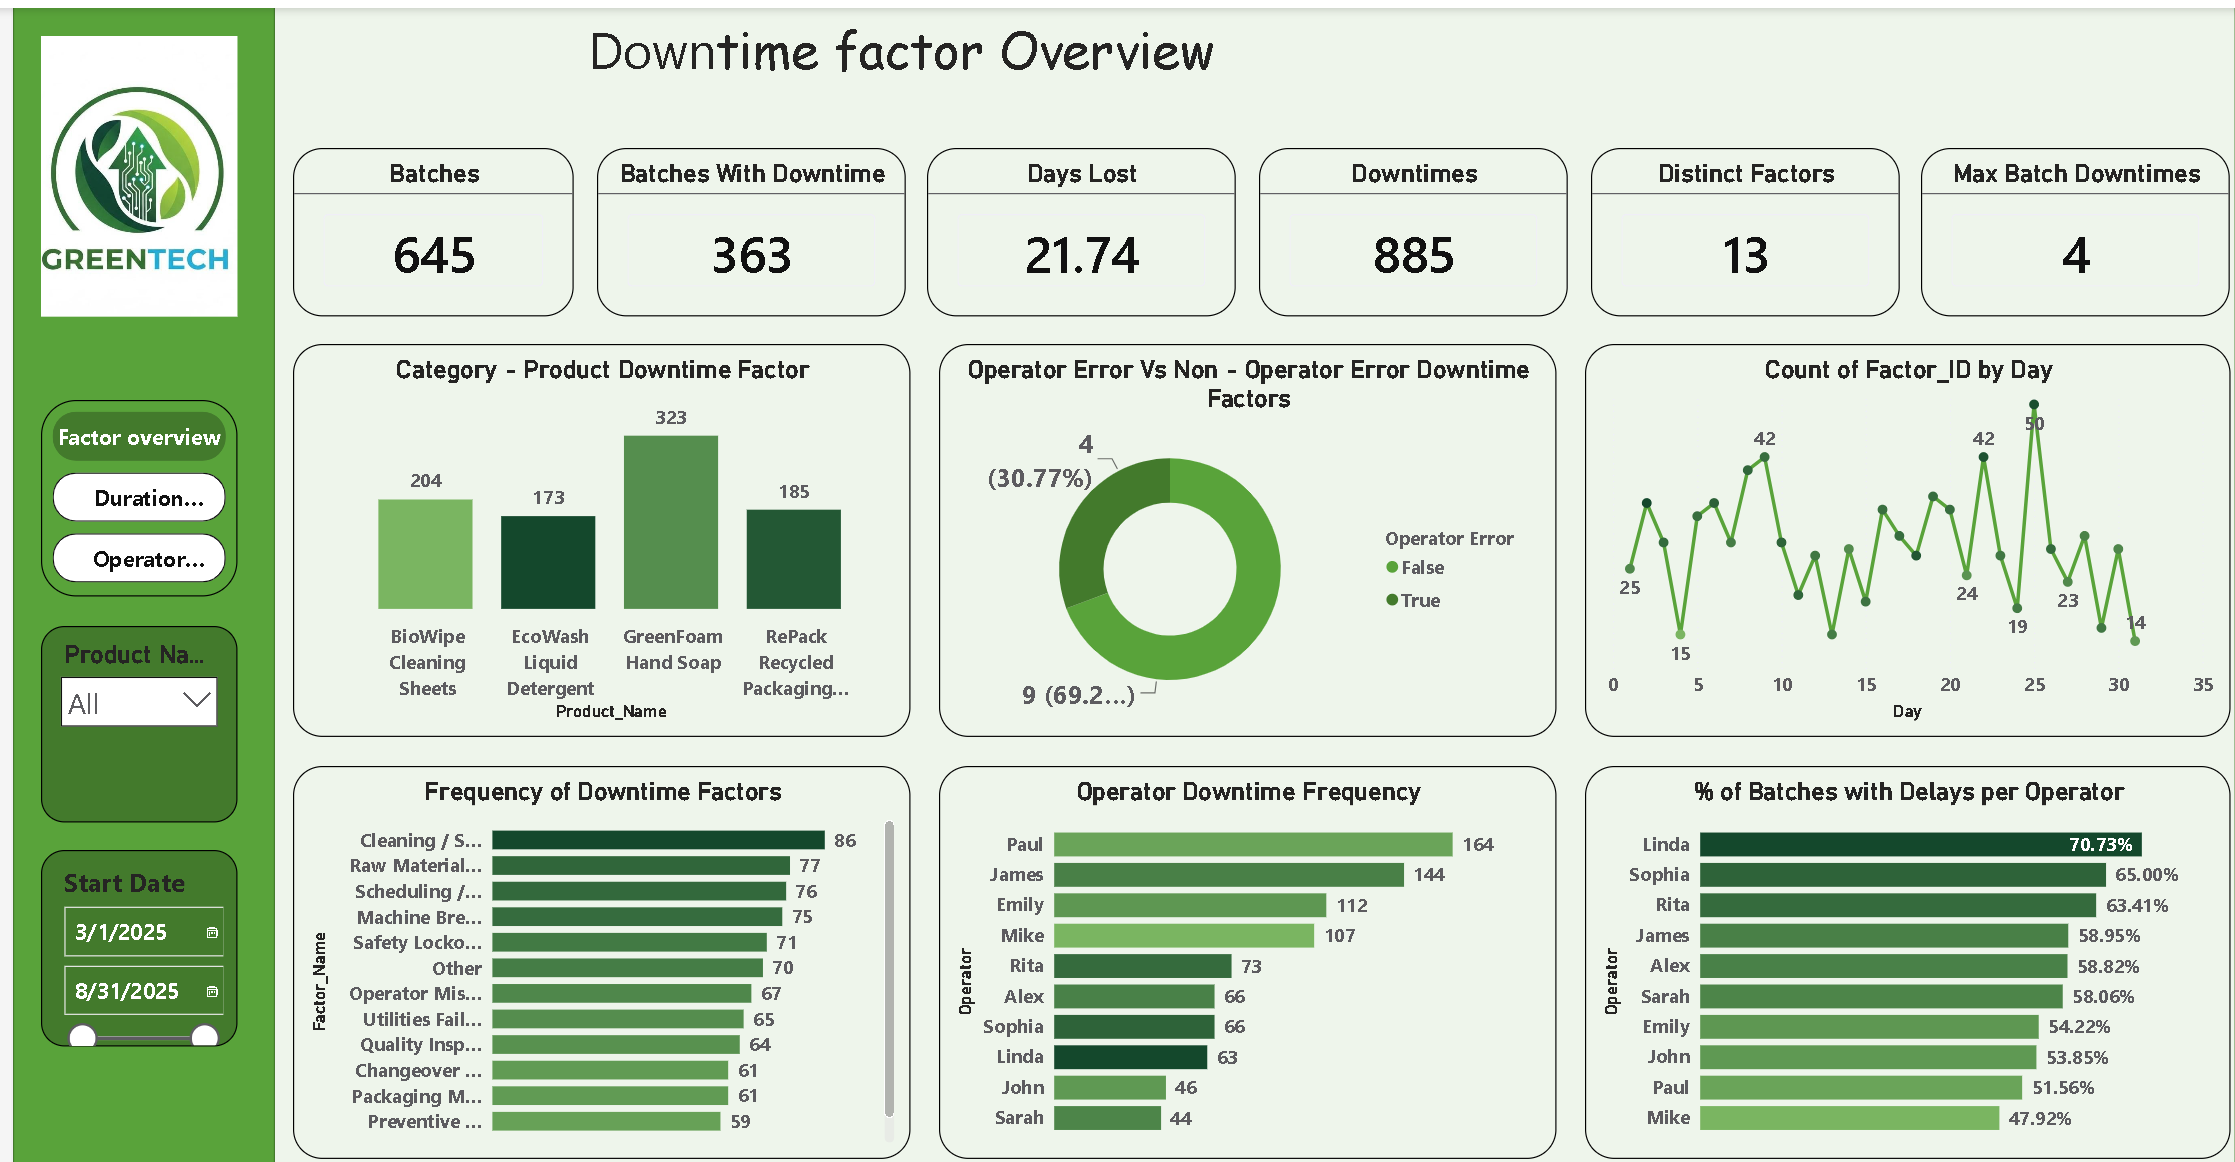

What the dashboard file says about the page in this screenshot:
{"tool":"powerbi","page":{"name":"Factor overview","canvas":[1900,988],"ordinal":0},"visuals":[{"type":"shape","box":[220,-4,1680,992],"z":0},{"type":"shape","box":[0,-4,224,992],"z":1000},{"type":"textbox","box":[240,0,1040,80],"z":2000},{"type":"cardVisual","title":"Batches","fields":{"Data":["CountNonNull(batch_pd.Batch_ID)"]},"box":[240,120,240,144],"z":3000},{"type":"cardVisual","title":"Batches With Downtime","fields":{"Data":["Count(downtimeS.Batch_ID)"]},"box":[499.2,120,264,144],"z":4000},{"type":"cardVisual","title":"Days Lost","fields":{"Data":["Sum(downtimeS.Days)"]},"box":[782.4,120,264,144],"z":5000},{"type":"cardVisual","title":"Downtimes","fields":{"Data":["CountNonNull(downtimeS.Batch_ID)"]},"box":[1065.6,120,264,144],"z":6000},{"type":"cardVisual","title":"Distinct Factors","fields":{"Data":["Count(downtimeS.Factor_ID)"]},"box":[1348.8,120,264,144],"z":7000},{"type":"cardVisual","title":"Max Batch Downtimes","fields":{"Data":["downtimeS.Max downtime per Batch"]},"box":[1632,120,264,144],"z":8000},{"type":"columnChart","title":"Category - Product Downtime Factor","fields":{"Y":["CountNonNull(downtimeS.Factor_ID)"],"Category":["products.Category Hierarchy.Category","products.Category Hierarchy.Product_Name"]},"box":[240,288,528,336],"z":9000},{"type":"donutChart","title":"Operator Error Vs Non - Operator Error Downtime Factors","fields":{"Series":["downtime_factors.Operator_Error"],"Y":["CountNonNull(downtime_factors.Factor_ID)"]},"box":[792,288,528,336],"z":10000},{"type":"lineChart","fields":{"Y":["CountNonNull(downtimeS.Factor_ID)"],"Category":["batch_pd.Start_Date.Variation.Date Hierarchy.Year","batch_pd.Start_Date.Variation.Date Hierarchy.Quarter","batch_pd.Start_Date.Variation.Date Hierarchy.Month","batch_pd.Start_Date.Variation.Date Hierarchy.Day"]},"box":[1344,288,552,336],"z":11000},{"type":"barChart","title":"Frequency of Downtime Factors","fields":{"Y":["CountNonNull(downtimeS.Factor_ID)"],"Category":["downtime_factors.Factor_Name"]},"box":[240,648,528,336],"z":12000},{"type":"barChart","title":"Operator Downtime Frequency","fields":{"Y":["CountNonNull(downtimeS.Factor_ID)"],"Category":["batch_pd.Operator"]},"box":[792,648,528,336],"z":13000},{"type":"barChart","title":"% of Batches with Delays per Operator","fields":{"Y":["downtimeS.Delayed Batches %"],"Category":["batch_pd.Operator"]},"box":[1344,648,552,336],"z":14000},{"type":"slicer","fields":{"Values":["products.Product_Name"]},"box":[24,528,168,168],"z":15000},{"type":"slicer","fields":{"Values":["batch_pd.Start_Date"]},"box":[24,720,168,168],"z":16000},{"type":"image","box":[24,24,168,240],"z":17000},{"type":"pageNavigator","box":[24,336,168,168],"z":18000}]}

Visuals, with their boxes in screenshot pixels (x1, y1, x2, y2), scaled from the page's 1900x988 canvas onto the 2235x1162 screenshot:
shape: <bbox>259, 0, 2234, 1161</bbox>
shape: <bbox>0, 0, 263, 1161</bbox>
textbox: <bbox>282, 0, 1506, 94</bbox>
"Batches" cardVisual: <bbox>282, 141, 565, 310</bbox>
"Batches With Downtime" cardVisual: <bbox>587, 141, 898, 310</bbox>
"Days Lost" cardVisual: <bbox>920, 141, 1231, 310</bbox>
"Downtimes" cardVisual: <bbox>1253, 141, 1564, 310</bbox>
"Distinct Factors" cardVisual: <bbox>1587, 141, 1897, 310</bbox>
"Max Batch Downtimes" cardVisual: <bbox>1920, 141, 2230, 310</bbox>
"Category - Product Downtime Factor" columnChart: <bbox>282, 339, 903, 734</bbox>
"Operator Error Vs Non - Operator Error Downtime Factors" donutChart: <bbox>932, 339, 1553, 734</bbox>
lineChart - CountNonNull(downtimeS.Factor_ID) x batch_pd.Start_Date.Variation.Date Hierarchy.Year: <bbox>1581, 339, 2230, 734</bbox>
"Frequency of Downtime Factors" barChart: <bbox>282, 762, 903, 1157</bbox>
"Operator Downtime Frequency" barChart: <bbox>932, 762, 1553, 1157</bbox>
"% of Batches with Delays per Operator" barChart: <bbox>1581, 762, 2230, 1157</bbox>
slicer - products.Product_Name: <bbox>28, 621, 226, 819</bbox>
slicer - batch_pd.Start_Date: <bbox>28, 847, 226, 1044</bbox>
image: <bbox>28, 28, 226, 310</bbox>
pageNavigator: <bbox>28, 395, 226, 593</bbox>
